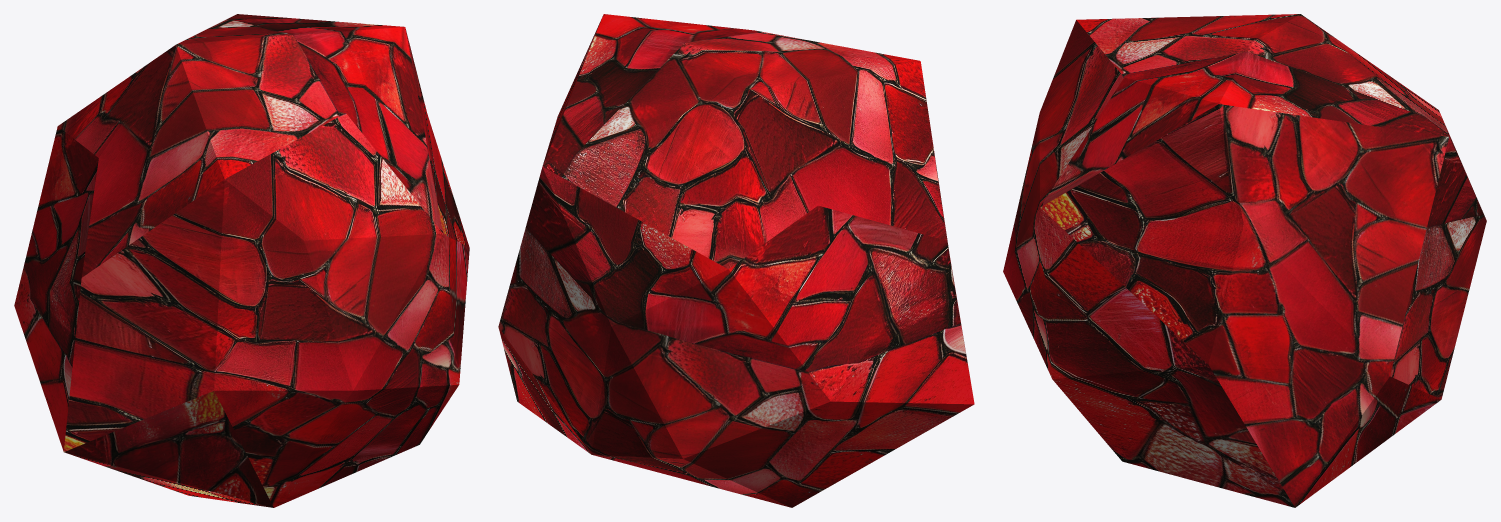
File: star3Red.glb
3 views of the same model, side by side, from view 1: azimuth 30°, elevation 25°; view 2: azimuth 150°, elevation 25°; view 3: azimuth 270°, elevation 25° (orthographic). The views are drawn at different scales.
Parts seen in each view (by area): view 1: star3; view 2: star3; view 3: star3.
Boxes of the visible parts, x1=… form: star3: x1=14, y1=14, x2=469, y2=507; star3: x1=498, y1=14, x2=974, y2=507; star3: x1=1003, y1=14, x2=1486, y2=507.
Size of the model in its own units: 1 by 1 by 1.
1 material, 1 textured.
